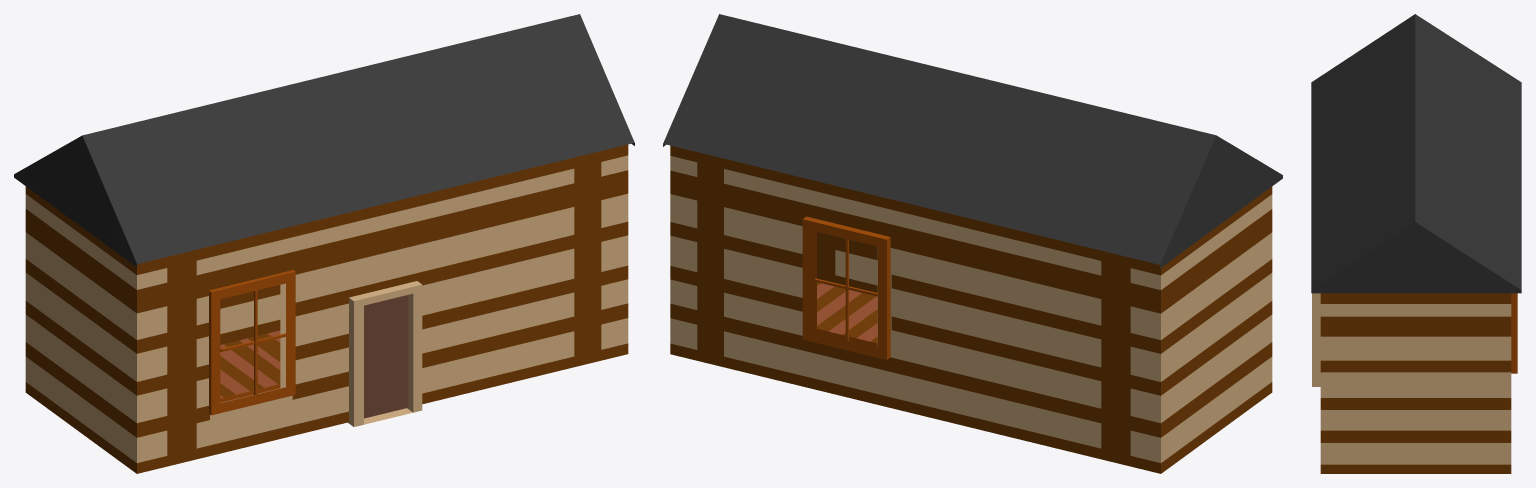
File: Casa Vila 2.fbx
3 views of the same model, side by side, from view 1: azimuth 30°, elevation 25°; view 2: azimuth 150°, elevation 25°; view 3: azimuth 270°, elevation 25° (orthographic). The views are drawn at different scales.
Visible parts, largest first — view 1: Cube, Cube.002, Cube.008, Cube.001; view 2: Cube, Cube.002, Cube.003, Cube.005; view 3: Cube.002, Cube, Cube.001, Cube.003.
Boxes of the visible parts, box(x1,y1,x2,y2) form: Cube: box(25, 144, 628, 473); Cube.002: box(14, 14, 634, 267); Cube.008: box(209, 270, 295, 415); Cube.001: box(348, 281, 422, 426); Cube: box(670, 145, 1272, 473); Cube.002: box(663, 14, 1282, 268); Cube.003: box(802, 216, 890, 359); Cube.005: box(814, 239, 877, 340); Cube.002: box(1311, 14, 1521, 293); Cube: box(1320, 293, 1511, 473); Cube.001: box(1312, 293, 1320, 386); Cube.003: box(1511, 293, 1517, 373).
Size of the model in its own units: 16611 by 9429 by 7025.
